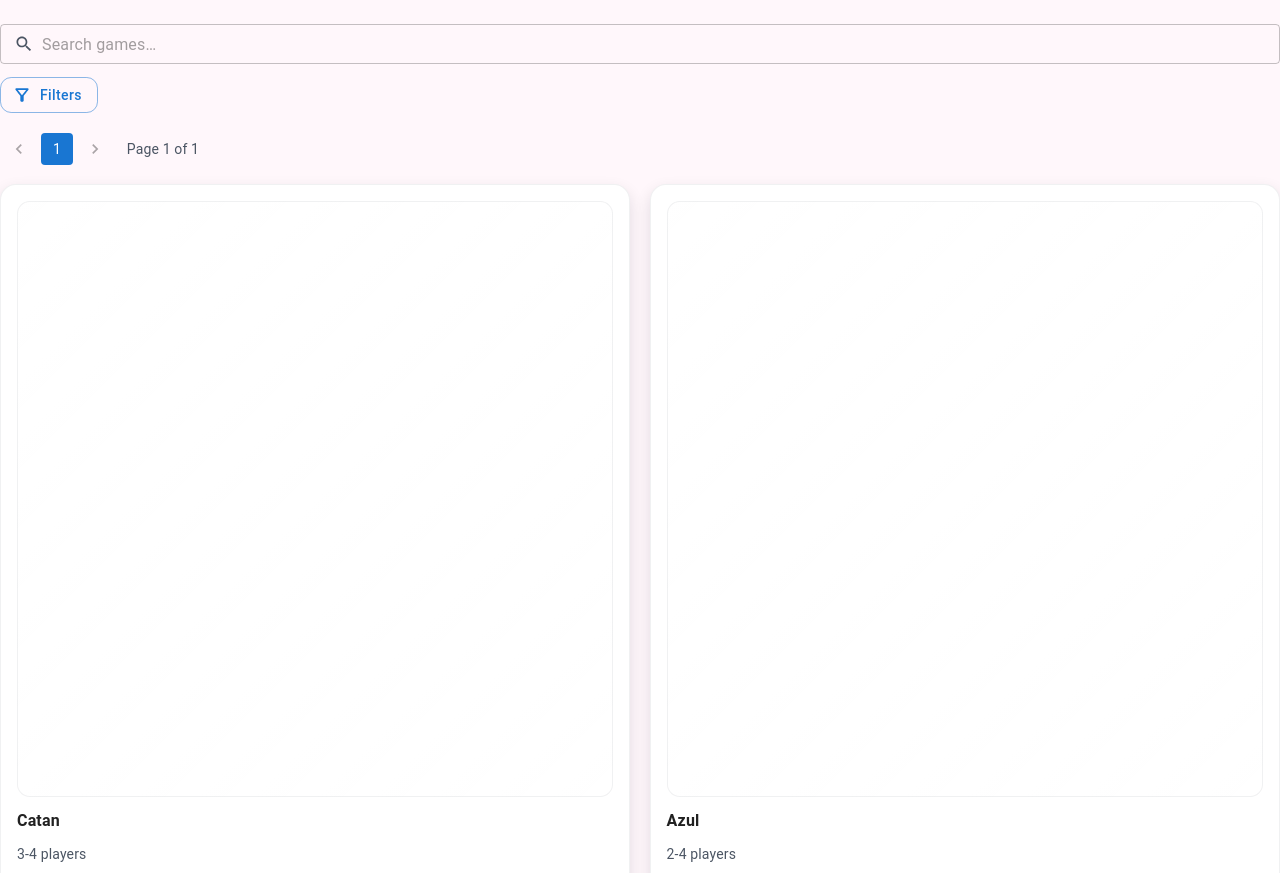
Test: GameListGrid › mobile: filter changes are draft until Apply
The width and height of the screenshot is (1280, 873).
Click the button "Filters": (49, 95) [0, 77, 98, 114]
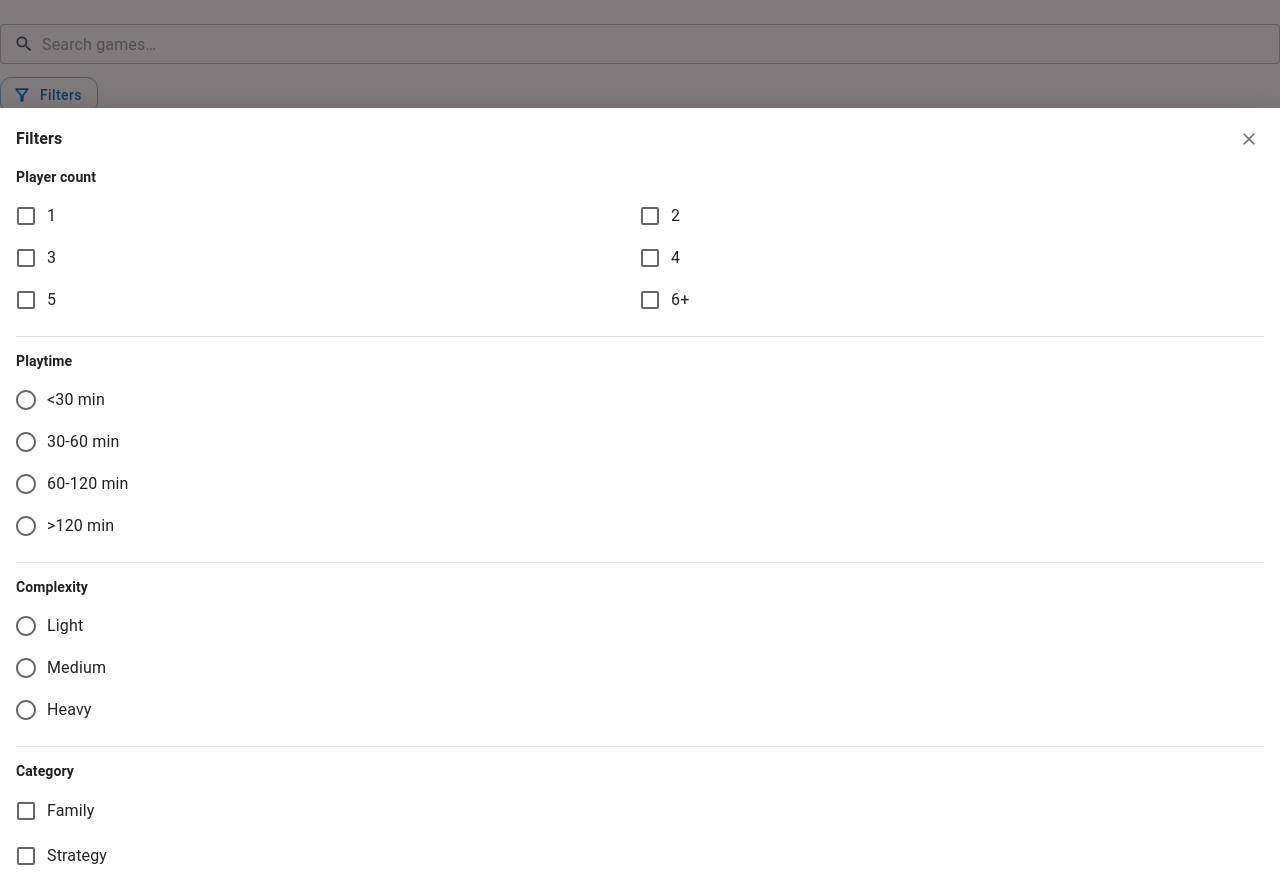
Expected: the heading "Player count" is shown, [16, 169, 96, 185]
Click the checkbox labelled "2": (659, 216) [638, 204, 680, 228]
(page scrolled)
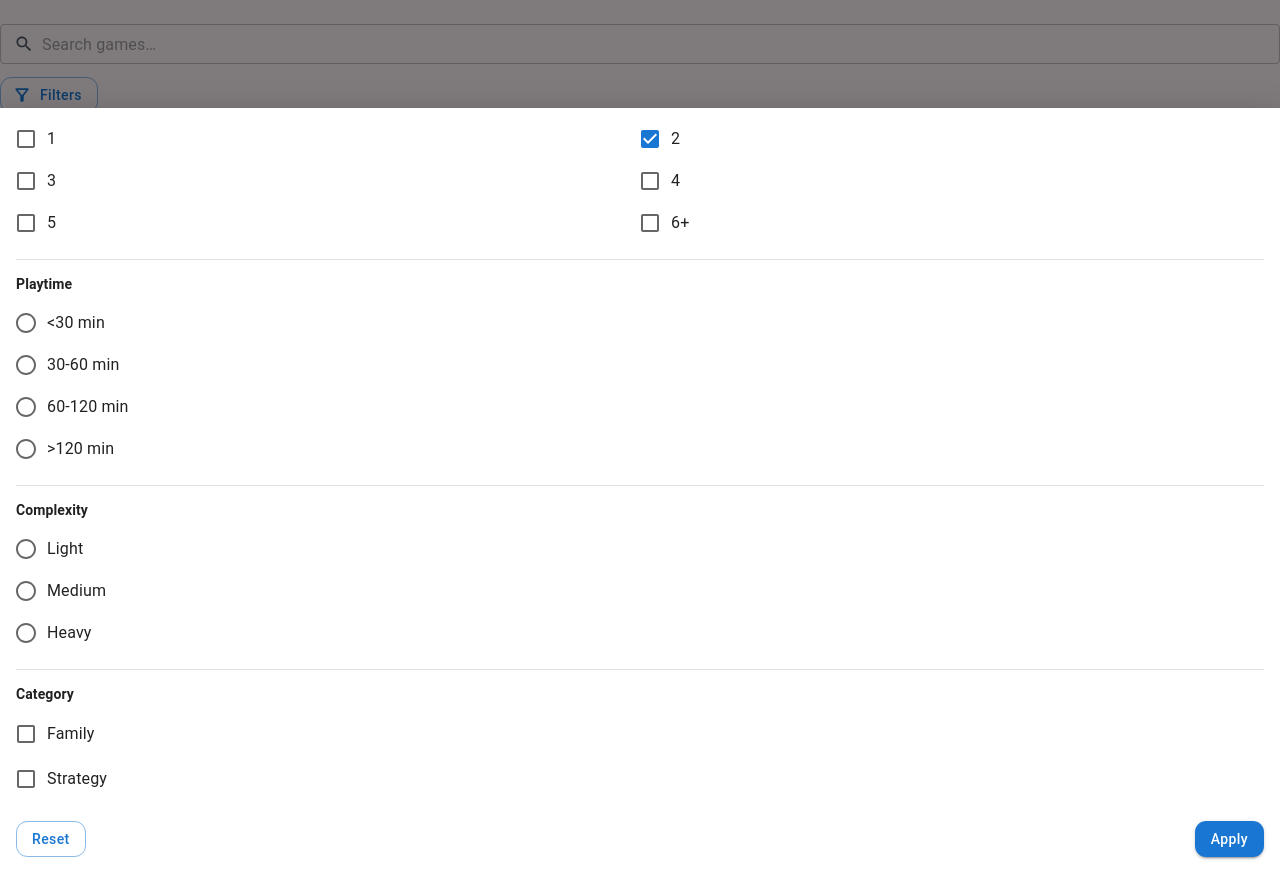
Expected: the heading "Catan" is shown, [17, 811, 60, 830]
Click the button "Apply": (1229, 839) [1195, 820, 1264, 857]
(page scrolled)
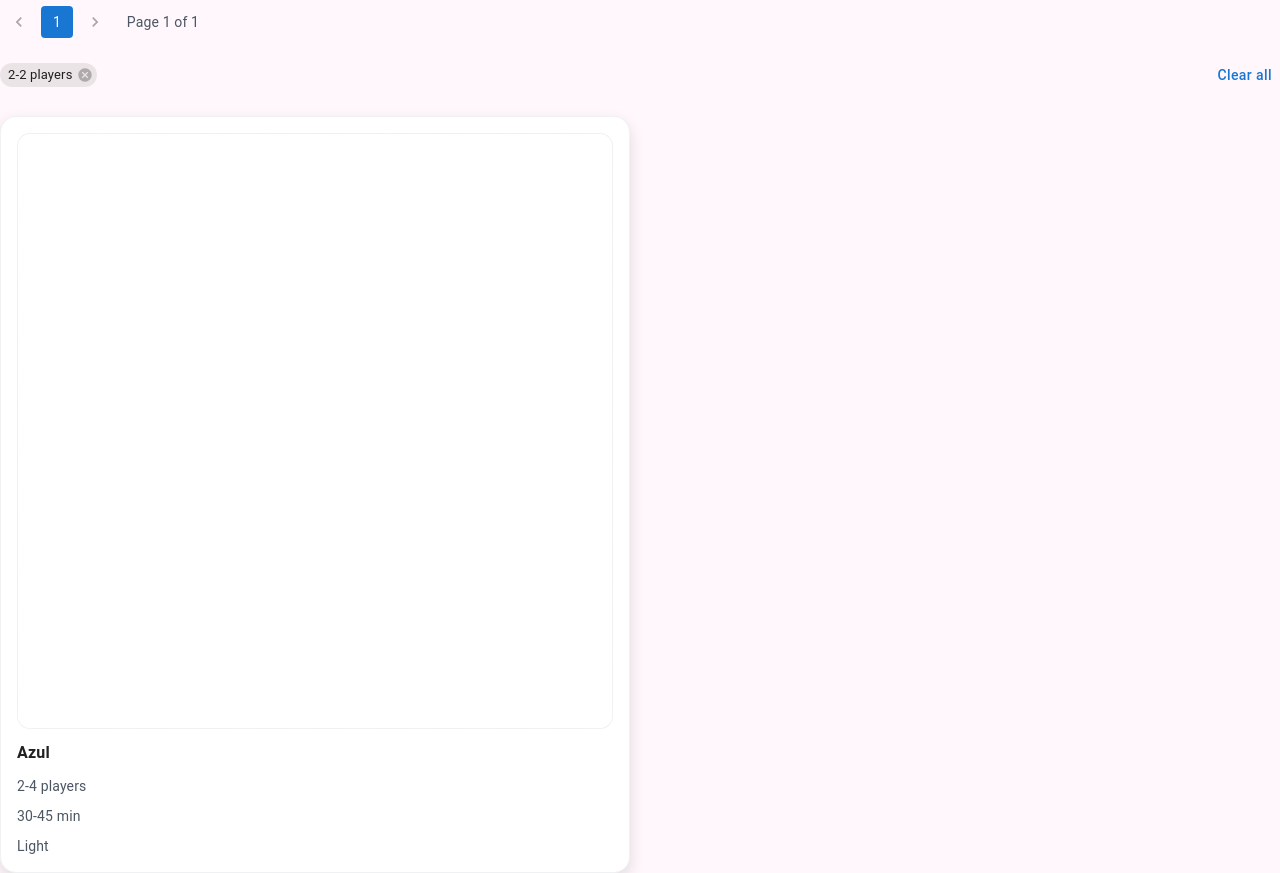
Expected: the heading "Azul" is shown, [17, 743, 50, 762]
Expected: the button "Catan" is gone
